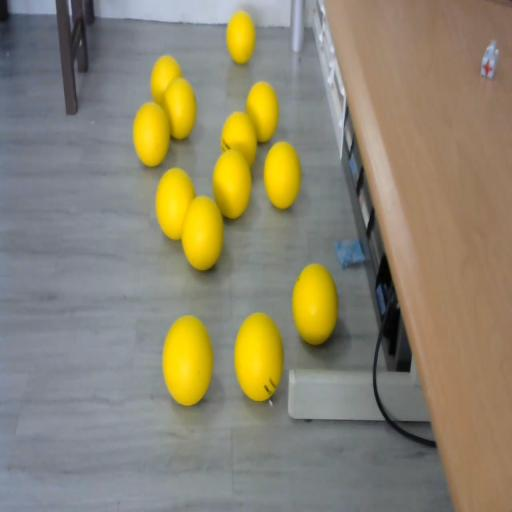FUEL: (162, 314, 214, 406), (232, 311, 284, 400), (291, 263, 338, 345), (155, 167, 196, 240), (212, 149, 252, 219), (263, 141, 302, 209), (133, 102, 170, 167), (162, 76, 198, 140), (246, 81, 279, 143), (226, 9, 256, 64)
